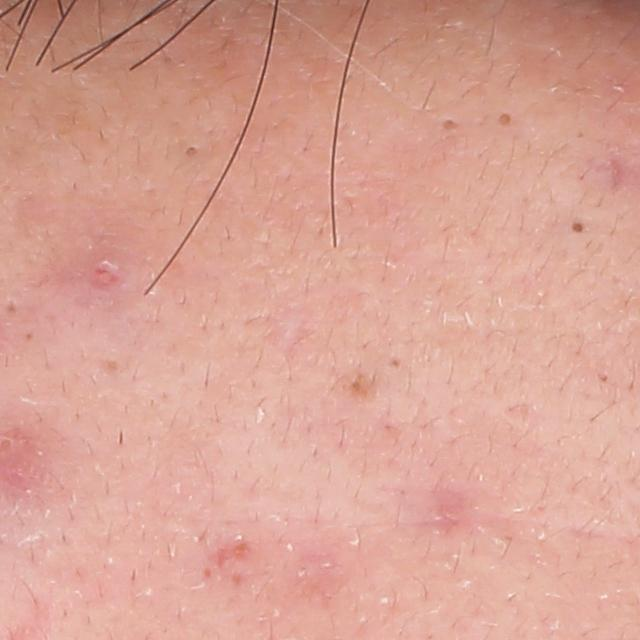comedo: (492, 109, 515, 129), (179, 141, 204, 159), (439, 116, 462, 134), (1, 296, 20, 317), (569, 219, 587, 236)
papule: (71, 249, 144, 301)
